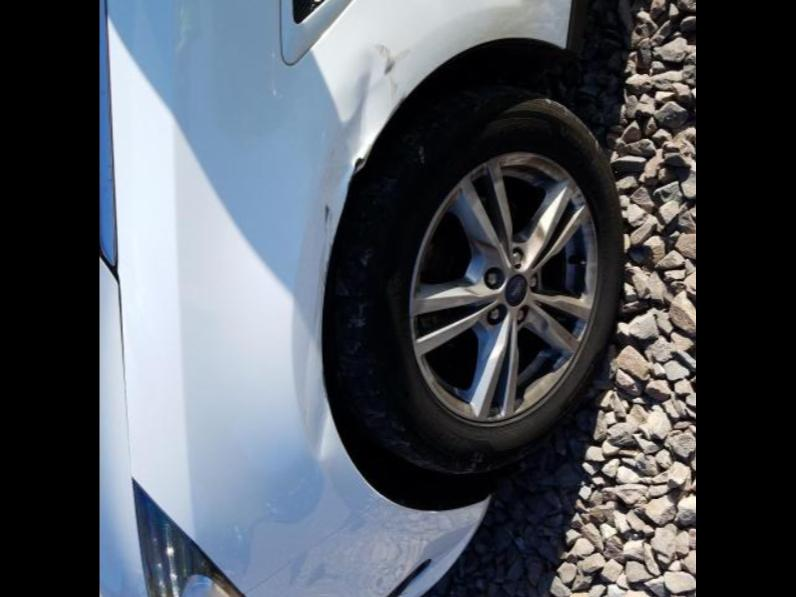Dent: (290, 40, 393, 461)
Scratch: (312, 156, 368, 343)
